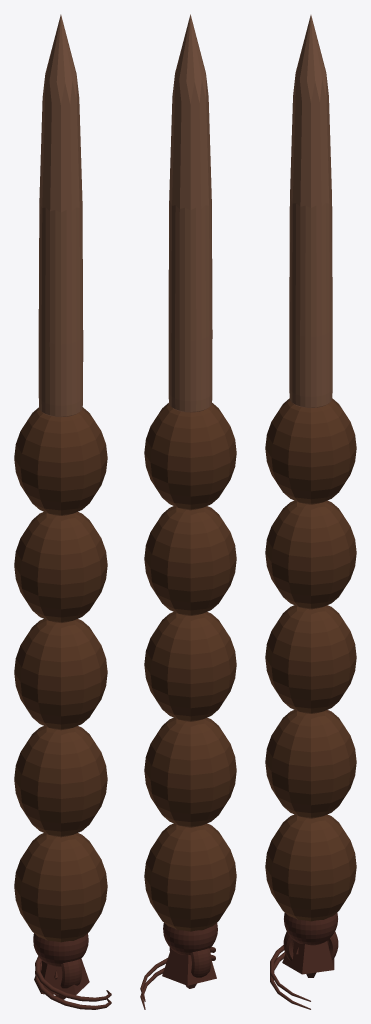
Rendered from Wand 209.glb.
3 renders of one model, left to right at view 1: azimuth 30°, elevation 25°; view 2: azimuth 210°, elevation 25°; view 3: azimuth 270°, elevation 25°, orthographic. The views are drawn at different scales.
Visible parts, largest first — view 1: GeneratedWand, Pommel_4, Pommel_9, Pommel_2, Pommel_10; view 2: GeneratedWand, Pommel_4, Pommel_9, Pommel_2; view 3: GeneratedWand, Pommel_9, Pommel_4, Pommel_2, Pommel_10.
Part boxes in pixels (x1,y1,x2,y2): GeneratedWand: [14, 14, 111, 1001]; Pommel_4: [33, 933, 88, 966]; Pommel_9: [34, 958, 89, 994]; Pommel_2: [60, 959, 81, 988]; Pommel_10: [35, 962, 111, 1009]; GeneratedWand: [140, 14, 236, 1001]; Pommel_4: [163, 923, 217, 955]; Pommel_9: [162, 949, 216, 985]; Pommel_2: [169, 947, 211, 977]; GeneratedWand: [265, 15, 356, 1001]; Pommel_9: [282, 941, 334, 974]; Pommel_4: [284, 913, 337, 945]; Pommel_2: [283, 931, 338, 960]; Pommel_10: [270, 952, 310, 1009].
Bounding box in the file's own units: 0.0481 × 0.5279 × 0.0449.
